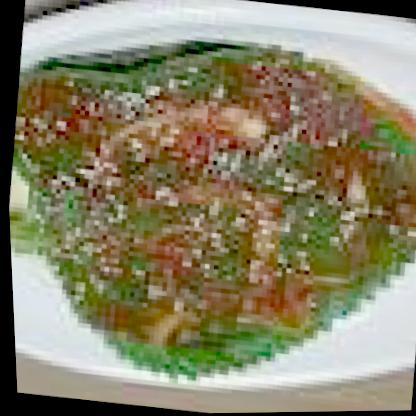pickled sesame leaf: (1, 39, 415, 396)
